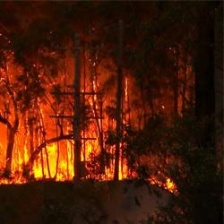fire: (1, 119, 208, 188)
